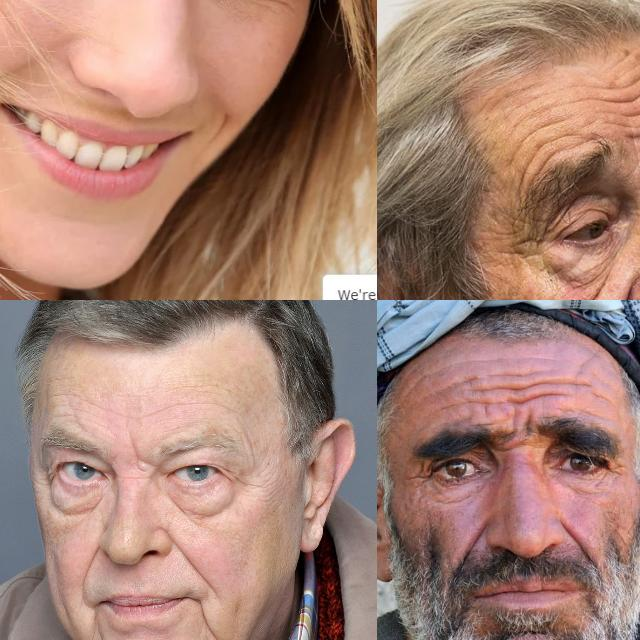crows_feet: (516, 225, 554, 267), (224, 465, 256, 493), (410, 460, 434, 486), (606, 456, 626, 484), (39, 464, 60, 490)
forehead: (518, 90, 564, 126), (520, 134, 554, 174), (608, 91, 640, 128), (156, 396, 202, 418), (61, 388, 97, 412), (617, 53, 640, 90), (544, 372, 590, 390), (493, 366, 535, 384), (506, 389, 546, 405), (452, 369, 483, 389), (405, 371, 433, 392), (572, 92, 604, 110), (469, 396, 496, 414)
frown_line: (122, 436, 148, 464), (498, 424, 518, 451), (523, 410, 537, 442)
gummy_smile: (168, 531, 208, 591), (458, 520, 484, 562), (562, 522, 592, 556), (80, 548, 102, 590)
masseter: (570, 283, 606, 300)
sad_smile: (205, 108, 227, 156), (196, 604, 219, 640), (86, 610, 105, 640)
